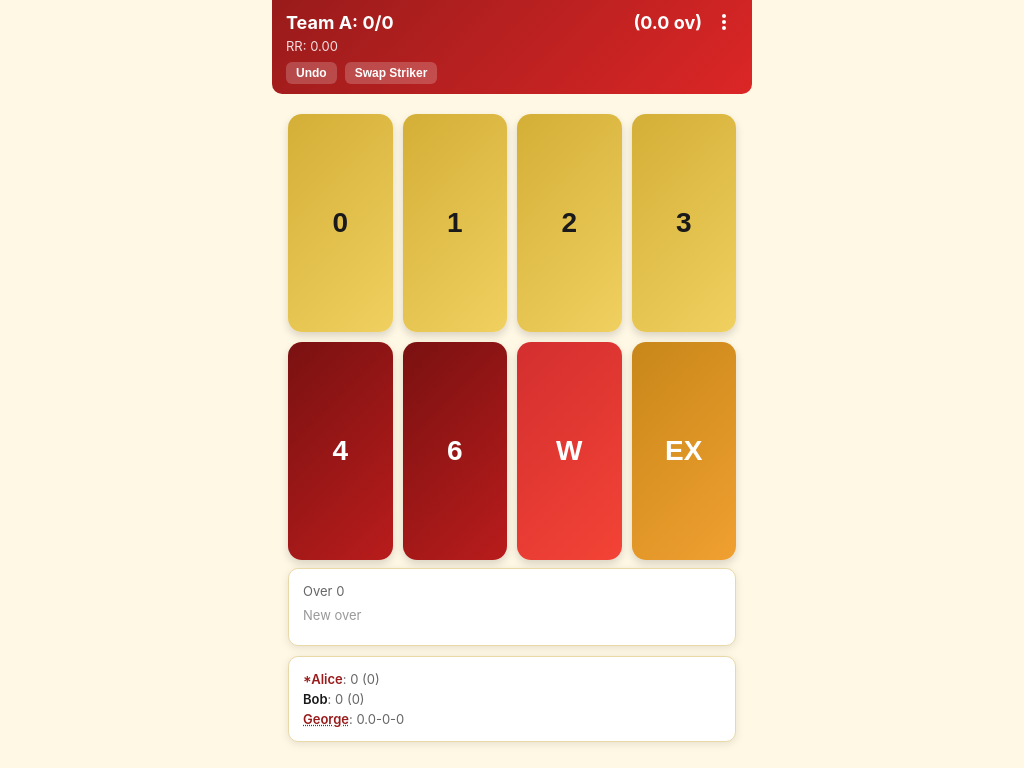
Scenario: Scoring - wicket with runs › after selecting dismissal type, shows runs picker with 0,1,2,3,4,6,+
Click the button "W".
click(569, 451)  # box [517,342,622,560]
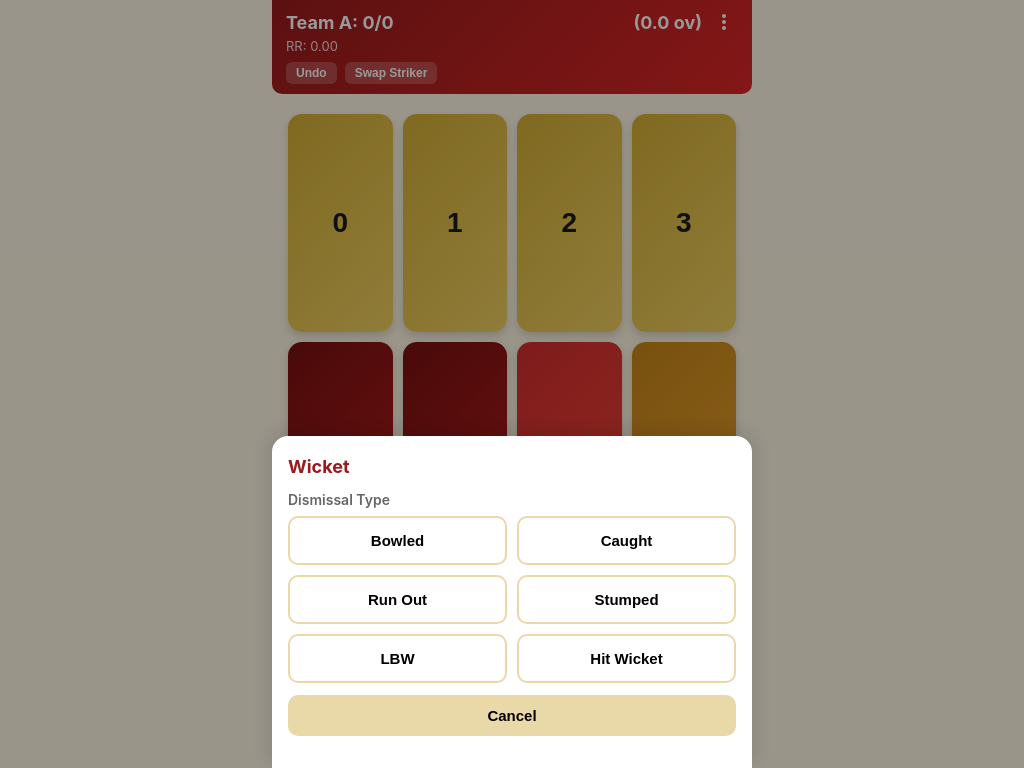
Result: the button "Run Out" is shown
Click the button "Run Out".
click(398, 600)  # box [288,575,507,624]
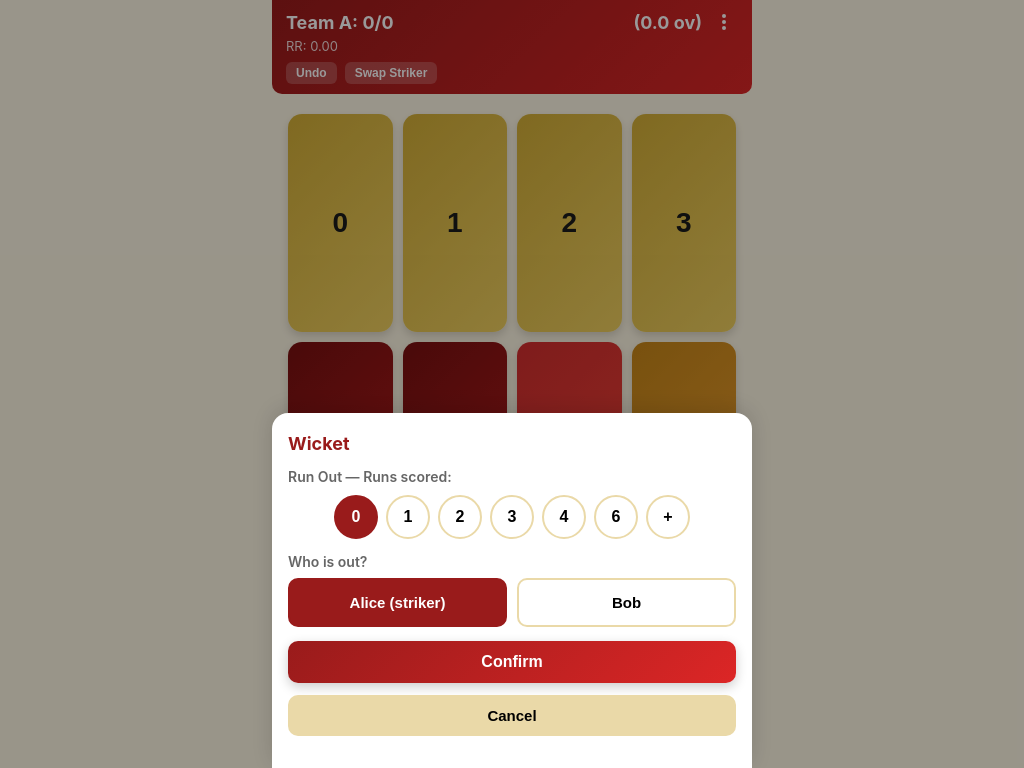
Result: the text "Run Out — Runs scored:" is shown at [288,468,452,485]
Result: the button "Confirm" is shown at [288,641,736,683]
Result: the button "+" is shown at [646,495,690,539]
